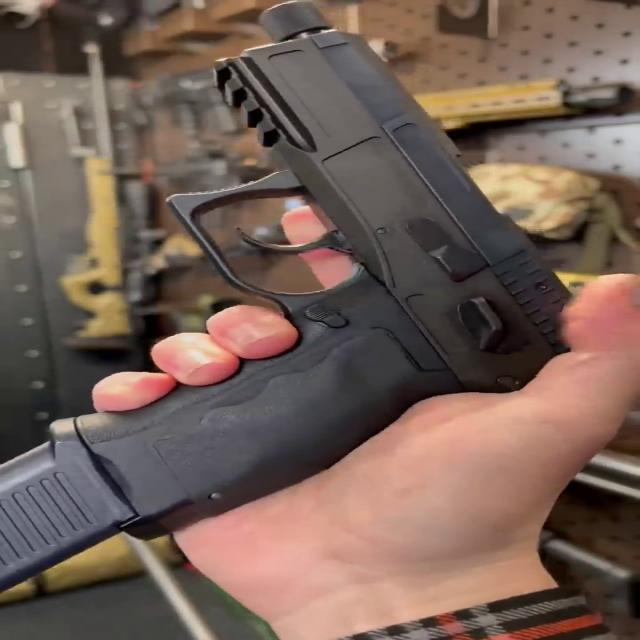Handgun: (60, 0, 598, 541)
